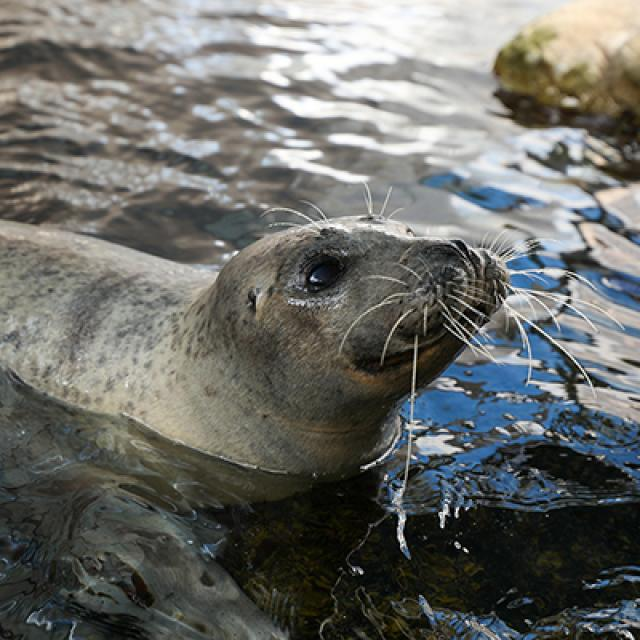WaterDog: (0, 189, 523, 492)
